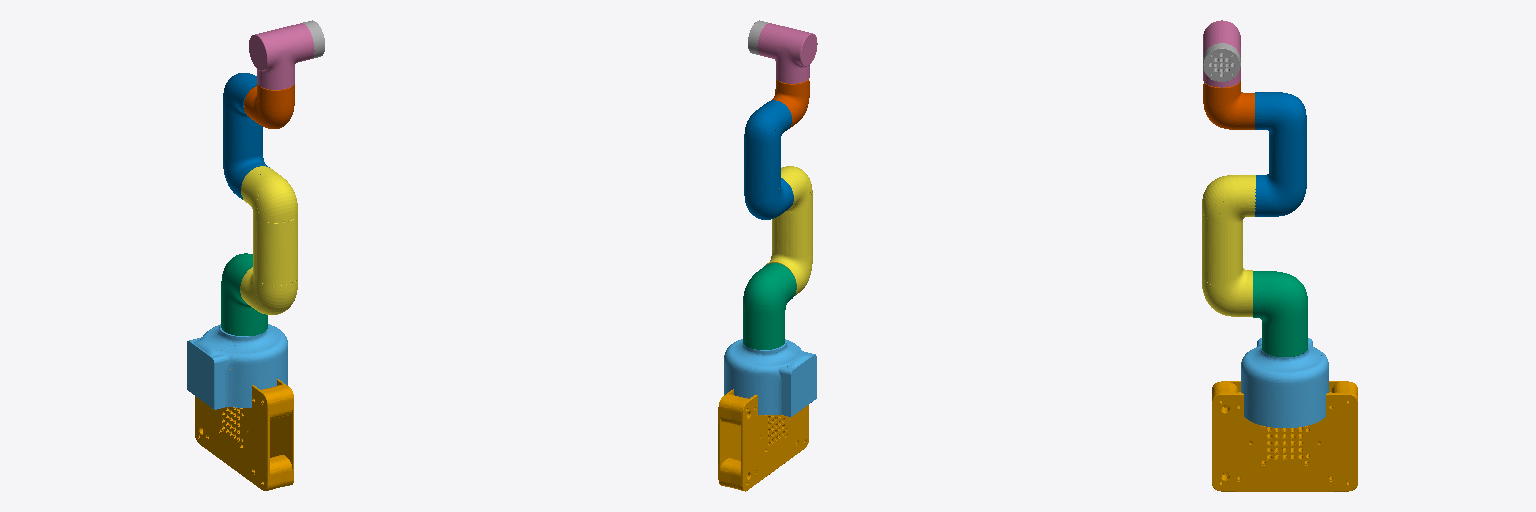
The robot description file, URDF, robot "mycobot_280_m5":
<?xml version='1.0' encoding='utf-8'?>
<robot name="mycobot_280_m5">
    <link name="g_base">
        <visual>
            <geometry>
                <mesh filename="meshes/G_base.stl" />
            </geometry>
            <origin xyz="0.0 0 -0.03" rpy="0 0 1.5708" />
        </visual>
        <collision>
            <geometry>
                <mesh filename="meshes/G_base.stl" />
            </geometry>
            <origin xyz="0.0 0 -0.03" rpy="0 0 1.5708" />
        </collision>
        <inertial>
            <mass value="0.1" />
            <origin xyz="0 0 0" rpy="0 0 0" />
            <inertia ixx="0.03" iyy="0.03" izz="0.03" ixy="0.0" ixz="0.0" iyz="0.0" />
        </inertial>
    </link>
    <link name="joint1">
        <visual>
            <geometry>
                
                <mesh filename="meshes/joint1.stl" />
            </geometry>
            <origin xyz="0.0 0 0 " rpy=" 0 0 -1.5708" />
        </visual>
        <collision>
            <geometry>
                
                <mesh filename="meshes/joint1.stl" />
            </geometry>
            <origin xyz="0.0 0 0 " rpy=" 0 0 -1.5708" />
        </collision>
        <inertial>
            <mass value="0.1" />
            <origin xyz="0 0 0" rpy="0 0 0" />
            <inertia ixx="0.03" iyy="0.03" izz="0.03" ixy="0.0" ixz="0.0" iyz="0.0" />
        </inertial>
    </link>
    <link name="joint2">
        <visual>
            <geometry>
                <mesh filename="meshes/joint2.stl" />
            </geometry>
            <origin xyz="0.0 0 -0.06096 " rpy=" 0 0 -1.5708" />
        </visual>
        <collision>
            <geometry>
                <mesh filename="meshes/joint2.stl" />
            </geometry>
            <origin xyz="0.0 0 -0.06096 " rpy=" 0 0 -1.5708" />
        </collision>
        <inertial>
            <mass value="0.1" />
            <origin xyz="0 0 0" rpy="0 0 0" />
            <inertia ixx="0.03" iyy="0.03" izz="0.03" ixy="0.0" ixz="0.0" iyz="0.0" />
        </inertial>
    </link>
    <link name="joint3">
        <visual>
            <geometry>
                <mesh filename="meshes/joint3.stl" />
            </geometry>
            <origin xyz="0.0 0 0.03256 " rpy=" 0 -1.5708 0" />
        </visual>
        <collision>
            <geometry>
                <mesh filename="meshes/joint3.stl" />
            </geometry>
            <origin xyz="0.0 0 0.03256 " rpy=" 0 -1.5708 0" />
        </collision>
        <inertial>
            <mass value="0.1" />
            <origin xyz="0 0 0" rpy="0 0 0" />
            <inertia ixx="0.03" iyy="0.03" izz="0.03" ixy="0.0" ixz="0.0" iyz="0.0" />
        </inertial>
    </link>
    <link name="joint4">
        <visual>
            <geometry>
                
                <mesh filename="meshes/joint4.stl" />
            </geometry>
            <origin xyz="0.0 0 0.03056 " rpy=" 0 -1.5708 0" />
        </visual>
        <collision>
            <geometry>
                
                <mesh filename="meshes/joint4.stl" />
            </geometry>
            <origin xyz="0.0 0 0.03056 " rpy=" 0 -1.5708 0" />
        </collision>
        <inertial>
            <mass value="0.1" />
            <origin xyz="0 0 0" rpy="0 0 0" />
            <inertia ixx="0.03" iyy="0.03" izz="0.03" ixy="0.0" ixz="0.0" iyz="0.0" />
        </inertial>
    </link>
    <link name="joint5">
        <visual>
            <geometry>
                
                <mesh filename="meshes/joint5.stl" />
            </geometry>
            <origin xyz="0.0 0 -0.03356 " rpy=" -1.5708 0 0" />
        </visual>
        <collision>
            <geometry>
                
                <mesh filename="meshes/joint5.stl" />
            </geometry>
            <origin xyz="0.0 0 -0.03356 " rpy=" -1.5708 0 0" />
        </collision>
        <inertial>
            <mass value="0.1" />
            <origin xyz="0 0 0" rpy="0 0 0" />
            <inertia ixx="0.03" iyy="0.03" izz="0.03" ixy="0.0" ixz="0.0" iyz="0.0" />
        </inertial>
    </link>
    <link name="joint6">
        <visual>
            <geometry>
                
                <mesh filename="meshes/joint6.stl" />
            </geometry>
            <origin xyz="0 0.00 -0.038 " rpy=" 0 0 0" />
        </visual>
        <collision>
            <geometry>
                
                <mesh filename="meshes/joint6.stl" />
            </geometry>
            <origin xyz="0 0.00 -0.038 " rpy=" 0 0 0" />
        </collision>
        <inertial>
            <mass value="0.1" />
            <origin xyz="0 0 0" rpy="0 0 0" />
            <inertia ixx="0.03" iyy="0.03" izz="0.03" ixy="0.0" ixz="0.0" iyz="0.0" />
        </inertial>
    </link>
    <link name="joint6_flange">
        <visual>
            <geometry>
                
                <mesh filename="meshes/joint7.stl" />
            </geometry>
            <origin xyz="0.0 0 -0.012 " rpy=" 0 0 0" />
        </visual>
        <collision>
            <geometry>
                
                <mesh filename="meshes/joint7.stl" />
            </geometry>
            <origin xyz="0.0 0 -0.012 " rpy=" 0 0 0" />
        </collision>
        <inertial>
            <mass value="0.1" />
            <origin xyz="0 0 0" rpy="0 0 0" />
            <inertia ixx="0.03" iyy="0.03" izz="0.03" ixy="0.0" ixz="0.0" iyz="0.0" />
        </inertial>
    </link>
    <joint name="g_base_to_joint1" type="fixed">
        <axis xyz="0 0 0" />
        <limit effort="1000.0" lower="-3.14" upper="3.14159" velocity="0" />
        <parent link="g_base" />
        <child link="joint1" />
        <origin xyz="0 0 0" rpy="0 0 0" />
    </joint>
    <joint name="joint2_to_joint1" type="revolute">
        <axis xyz="0 0 1" />
        <limit effort="1000.0" lower="-2.9321" upper="2.9321" velocity="0" />
        <parent link="joint1" />
        <child link="joint2" />
        <origin xyz="0 0 0.13156" rpy="0 0 0" />
    </joint>
    <joint name="joint3_to_joint2" type="revolute">
        <axis xyz="0 0 1" />
        <limit effort="1000.0" lower="-2.4434" upper="2.4434" velocity="0" />
        <parent link="joint2" />
        <child link="joint3" />
        <origin xyz="0 0  0" rpy="0 1.5708 -1.5708" />
    </joint>
    <joint name="joint4_to_joint3" type="revolute">
        <axis xyz=" 0 0 1" />
        <limit effort="1000.0" lower="-2.6179" upper="2.6179" velocity="0" />
        <parent link="joint3" />
        <child link="joint4" />
        <origin xyz="  -0.1104 0 0   " rpy="0 0 0" />
    </joint>
    <joint name="joint5_to_joint4" type="revolute">
        <axis xyz=" 0 0 1" />
        <limit effort="1000.0" lower="-2.6179" upper="2.6179" velocity="0" />
        <parent link="joint4" />
        <child link="joint5" />
        <origin xyz="-0.096 0 0.06462" rpy="0 0 -1.5708" />
    </joint>
    <joint name="joint6_to_joint5" type="revolute">
        <axis xyz="0 0 1" />
        <limit effort="1000.0" lower="-2.7052" upper="2.7925" velocity="0" />
        <parent link="joint5" />
        <child link="joint6" />
        <origin xyz="0 -0.07318 0" rpy="1.5708 -1.5708 0" />
    </joint>
    <joint name="joint6output_to_joint6" type="revolute">
        <axis xyz="0 0 1" />
        <limit effort="1000.0" lower="-3.14" upper="3.14159" velocity="0" />
        <parent link="joint6" />
        <child link="joint6_flange" />
        <origin xyz="0 0.0456 0" rpy="-1.5708 0 0" />
    </joint>
    </robot>

--- What the picture shows (computed from the rendered views, not written in the file) ---
Views: 3 orthographic renders of the robot side by side, from view 1: azimuth 30°, elevation 25°; view 2: azimuth 150°, elevation 25°; view 3: azimuth 270°, elevation 25°.
Model mycobot_280_m5 with 8 links and 7 joints (6 revolute, 1 fixed), rooted at g_base, posed all joints at 0.
Visible links, largest first — view 1: g_base, joint3, joint1, joint4, joint6, joint2, joint5; view 2: g_base, joint1, joint4, joint2, joint3, joint6, joint5; view 3: g_base, joint3, joint1, joint4, joint2, joint5, joint6_flange, joint6.
Link boxes in pixels (x1,y1,x2,y2): g_base: [195, 369, 293, 490]; joint3: [240, 166, 297, 314]; joint1: [187, 324, 287, 409]; joint4: [223, 73, 269, 199]; joint6: [249, 23, 314, 89]; joint2: [221, 253, 267, 335]; joint5: [244, 83, 294, 128]; g_base: [718, 389, 808, 491]; joint1: [724, 339, 816, 416]; joint4: [744, 100, 793, 219]; joint2: [743, 263, 796, 349]; joint3: [765, 166, 812, 295]; joint6: [757, 23, 817, 83]; joint5: [771, 79, 809, 128]; g_base: [1212, 381, 1357, 491]; joint3: [1202, 175, 1255, 316]; joint1: [1241, 338, 1328, 427]; joint4: [1255, 92, 1306, 216]; joint2: [1253, 271, 1307, 356]; joint5: [1203, 81, 1254, 129]; joint6_flange: [1203, 43, 1240, 81]; joint6: [1203, 20, 1240, 87].
Size in the robot's own frame: 0.0993 by 0.1603 by 0.5153 metres.
Meshes: 8 distinct files referenced, 8 mesh visuals loaded (8 binary STL).
